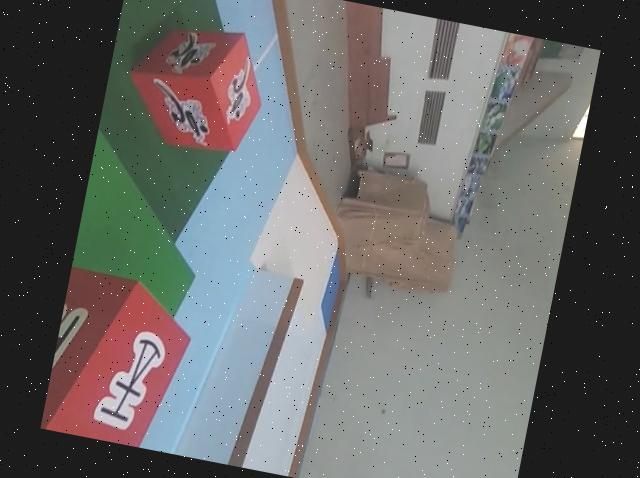R1: (120, 13, 273, 159)
R2 Real: (40, 264, 200, 453)
